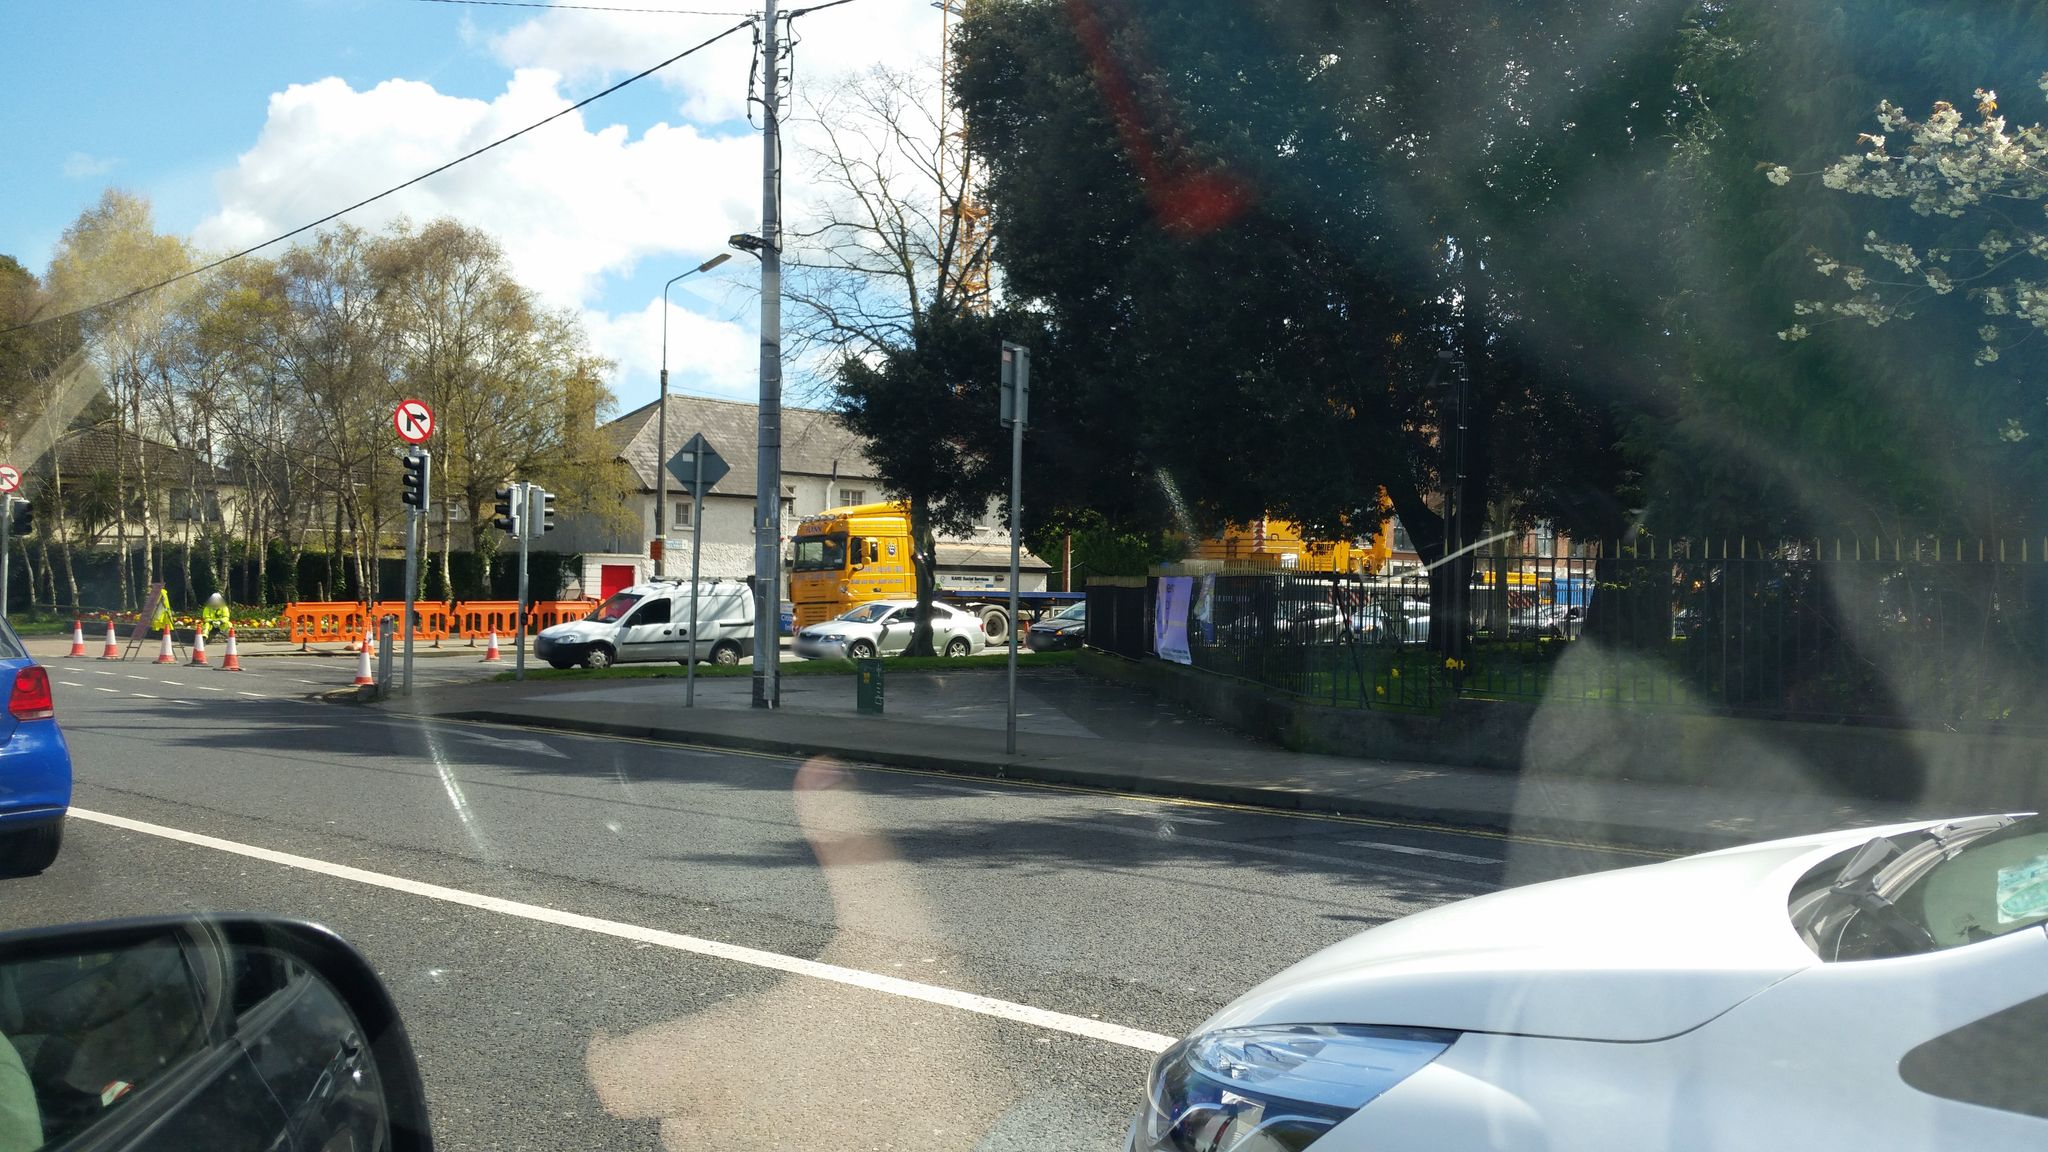vinyl banner: (1144, 561, 1212, 674)
